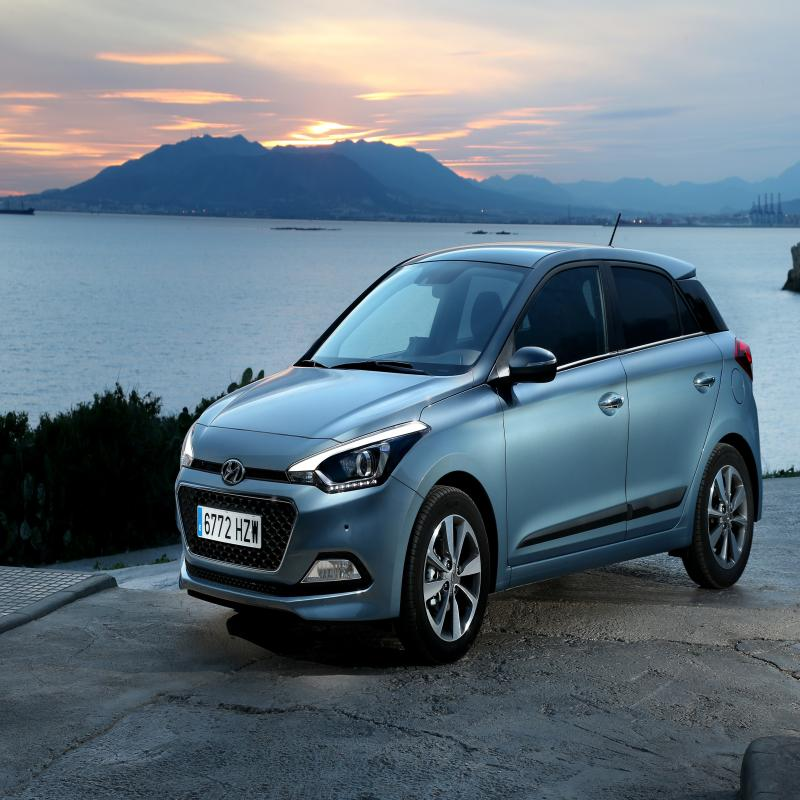car: (121, 191, 756, 702)
